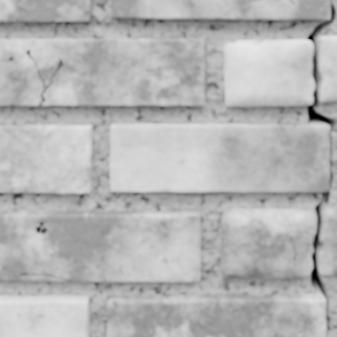brick: (110, 124, 327, 191), (0, 211, 200, 280), (0, 39, 203, 104), (106, 294, 324, 336), (0, 125, 90, 192), (111, 0, 329, 19), (0, 296, 88, 336), (0, 0, 90, 21)
broken_brick: (219, 208, 314, 279), (223, 39, 311, 105), (318, 34, 336, 102), (320, 204, 336, 275)
crack: (305, 2, 336, 334), (25, 47, 63, 105), (18, 271, 71, 281)
